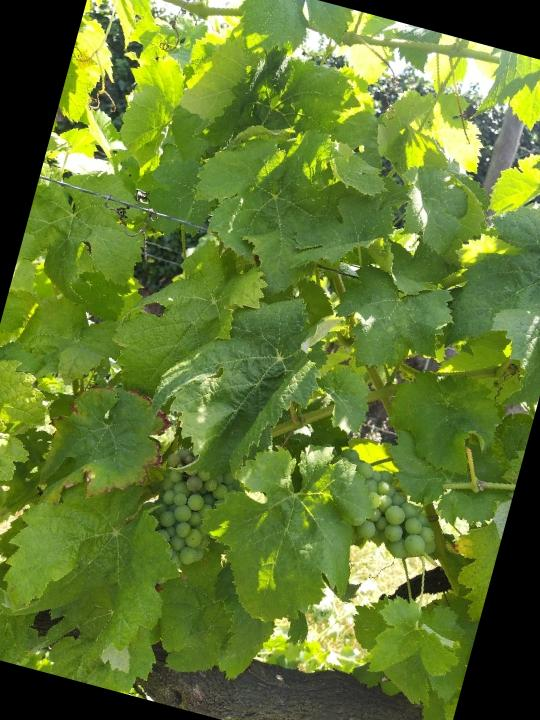grape: (308, 439, 457, 570), (137, 442, 244, 581)
